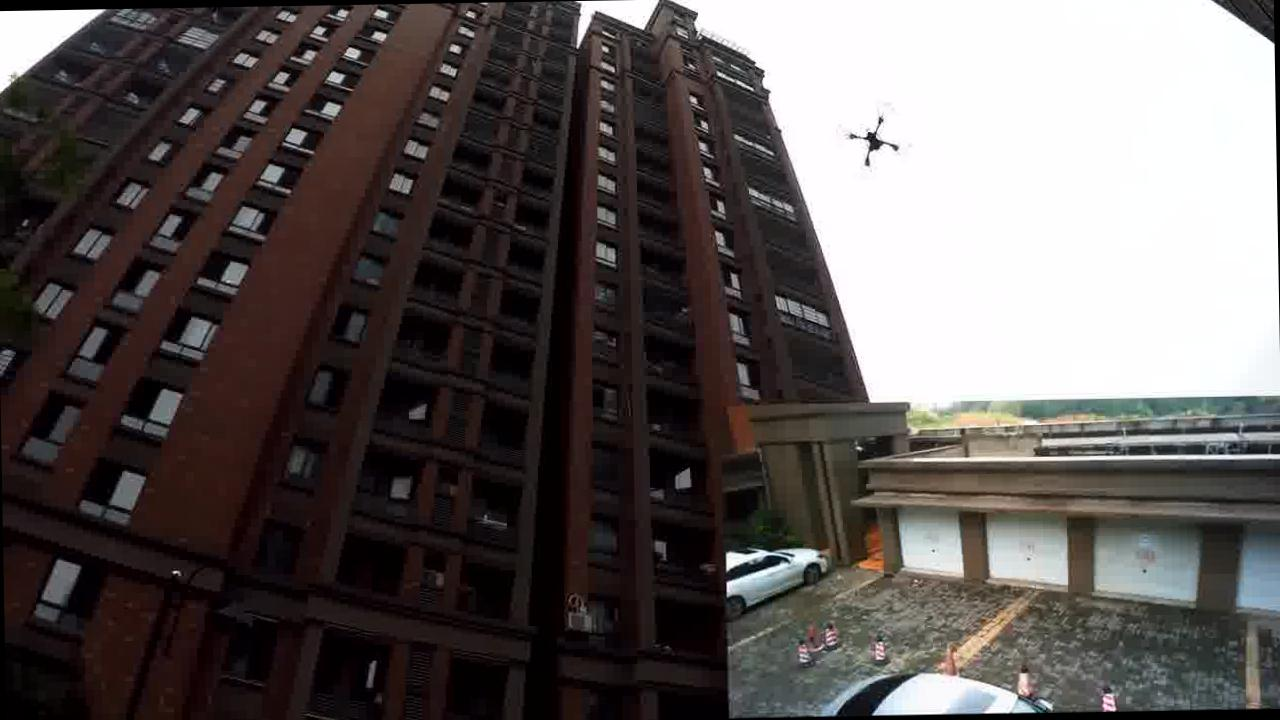drone: (840, 105, 904, 166)
